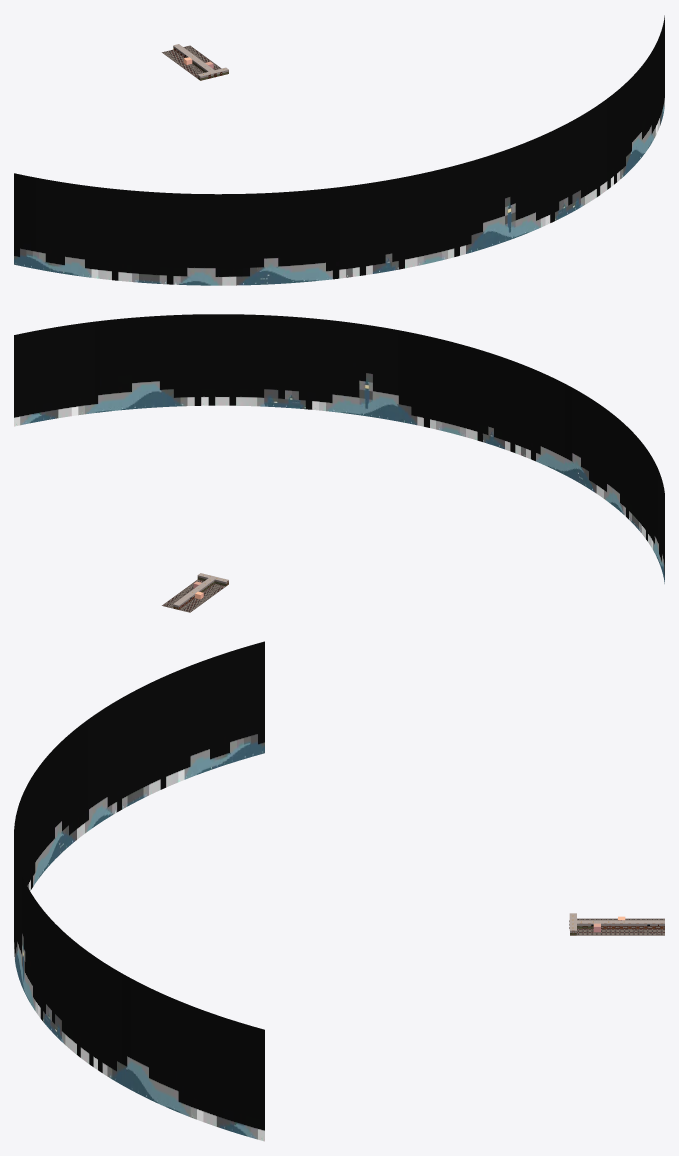
The model's file is goodboat-corridor-1-day.glb.
3 renders of one model, top to bottom at view 1: azimuth 30°, elevation 25°; view 2: azimuth 150°, elevation 25°; view 3: azimuth 270°, elevation 25°, orthographic. The views are drawn at different scales.
Parts seen in each view (by area): view 1: object 104, object 9; view 2: object 104, object 9; view 3: object 104, object 9.
Boxes of the visible parts, x1,y1,x2,y2 form: object 104: (14,15,664,285); object 9: (162,45,221,78); object 104: (14,314,664,583); object 9: (162,579,225,612); object 104: (14,641,264,1141); object 9: (576,918,664,935).
Size of the model in its own units: 387 by 51.98 by 274.
Materials: 128 (54 with a texture image).
